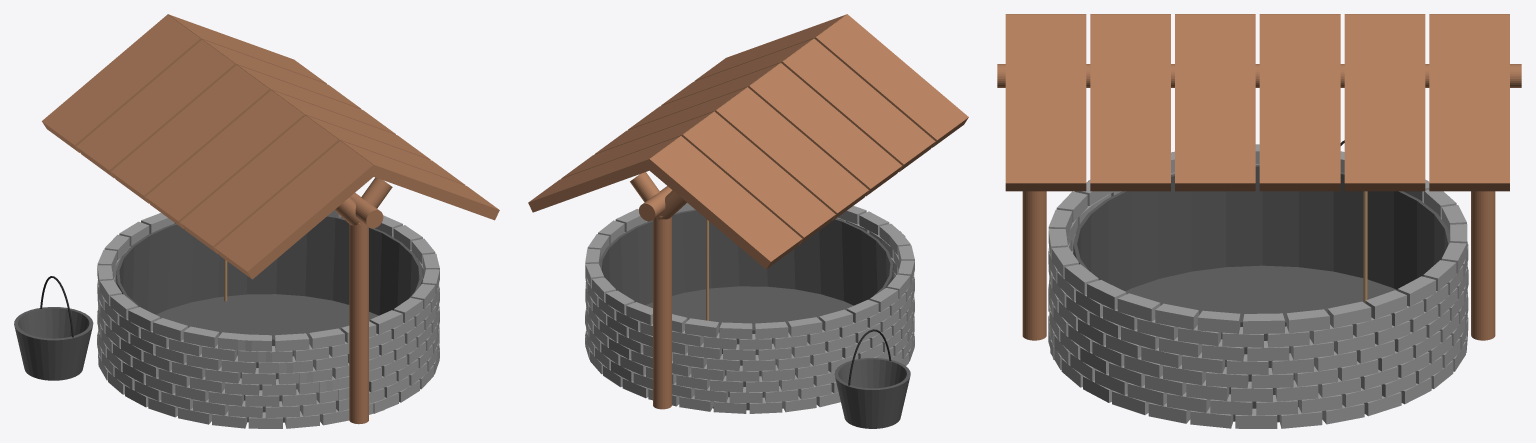
The model's file is well.fbx.
3 renders of one model, left to right at view 1: azimuth 30°, elevation 25°; view 2: azimuth 150°, elevation 25°; view 3: azimuth 270°, elevation 25°, orthographic. The views are drawn at different scales.
Parts seen in each view (by area): view 1: Cube.002, Cube, Cylinder, Cylinder.002, Cylinder.009; view 2: Cube.002, Cube, Cylinder, Cylinder.002, Cylinder.009; view 3: Cube.002, Cube, Cylinder, Cylinder.002, Cylinder.008.
Part boxes in pixels (bbox=[...]): Cube.002: bbox=[42, 14, 499, 279]; Cube: bbox=[97, 210, 439, 428]; Cylinder: bbox=[116, 215, 422, 422]; Cylinder.002: bbox=[334, 177, 392, 424]; Cylinder.009: bbox=[14, 307, 93, 380]; Cube.002: bbox=[528, 14, 968, 269]; Cube: bbox=[585, 203, 914, 413]; Cylinder: bbox=[599, 209, 893, 410]; Cylinder.002: bbox=[630, 172, 686, 409]; Cylinder.009: bbox=[834, 358, 910, 428]; Cube.002: bbox=[1005, 14, 1509, 191]; Cube: bbox=[1048, 144, 1468, 428]; Cylinder: bbox=[1073, 165, 1450, 422]; Cylinder.002: bbox=[997, 64, 1521, 340]; Cylinder.008: bbox=[1363, 191, 1367, 302].
Bounding box in the file's own units: 124 × 90.53 × 130.
